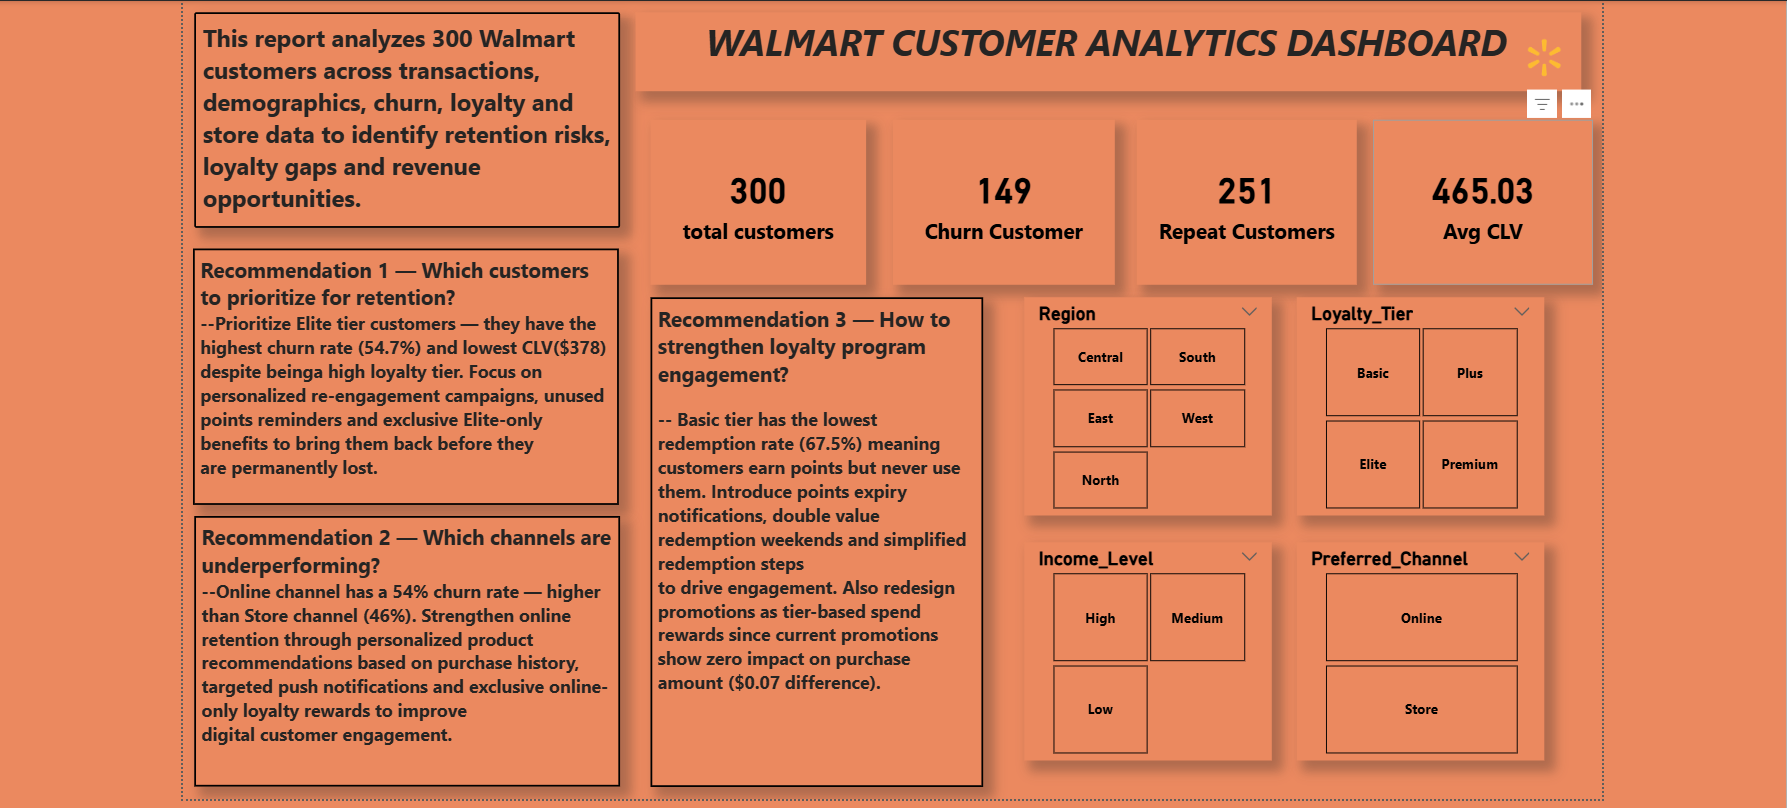

What the dashboard file says about the page in this screenshot:
{"tool":"powerbi","page":{"name":"Strategic Recommendation","canvas":[1280,720],"ordinal":11},"visuals":[{"type":"textbox","box":[10,10,384.3,194.3],"z":0},{"type":"textbox","box":[408.6,10,852.9,71.4],"z":1000},{"type":"image","box":[1172.9,20,107.1,61.4],"z":2000},{"type":"card","fields":{"Values":["Customer_Demographics.total customers"]},"box":[421.4,107.1,194.3,148.6],"z":3000},{"type":"card","fields":{"Values":["Churn_Labelled_Customers.Churn Customer"]},"box":[640,107.1,200,148.6],"z":4000},{"type":"card","fields":{"Values":["Customer_Transactions.Repeat Customers"]},"box":[860,107.1,198.6,148.6],"z":5000},{"type":"card","fields":{"Values":["Customer_Transactions.Avg CLV"]},"box":[1072.9,107.1,198.6,148.6],"z":6000},{"type":"textbox","box":[8.6,222.9,384.3,231.4],"z":7000},{"type":"textbox","box":[10,464.3,384.3,244.3],"z":8000},{"type":"textbox","box":[421.4,267.1,300,441.4],"z":9000},{"type":"slicer","fields":{"Values":["Customer_Demographics.Region"]},"box":[758.6,267.1,222.9,197.1],"z":10000},{"type":"slicer","fields":{"Values":["Customer_Demographics.Loyalty_Tier"]},"box":[1004.3,267.1,222.9,197.1],"z":11000},{"type":"slicer","fields":{"Values":["Customer_Demographics.Income_Level"]},"box":[758.6,488.6,222.9,197.1],"z":12000},{"type":"slicer","fields":{"Values":["Customer_Demographics.Preferred_Channel"]},"box":[1004.3,488.6,222.9,197.1],"z":13000}]}

Visuals, with their boxes on the page's 1280x720 design canvas (x1, y1, x2, y2). These are canvas units, not pixel positions in the 1787x808 screenshot, which may show the page scaled, cropped or inside an application window:
textbox: select_region(10, 10, 394, 204)
textbox: select_region(409, 10, 1262, 81)
image: select_region(1173, 20, 1280, 81)
card - Customer_Demographics.total customers: select_region(421, 107, 616, 256)
card - Churn_Labelled_Customers.Churn Customer: select_region(640, 107, 840, 256)
card - Customer_Transactions.Repeat Customers: select_region(860, 107, 1059, 256)
card - Customer_Transactions.Avg CLV: select_region(1073, 107, 1272, 256)
textbox: select_region(9, 223, 393, 454)
textbox: select_region(10, 464, 394, 709)
textbox: select_region(421, 267, 721, 708)
slicer - Customer_Demographics.Region: select_region(759, 267, 982, 464)
slicer - Customer_Demographics.Loyalty_Tier: select_region(1004, 267, 1227, 464)
slicer - Customer_Demographics.Income_Level: select_region(759, 489, 982, 686)
slicer - Customer_Demographics.Preferred_Channel: select_region(1004, 489, 1227, 686)
